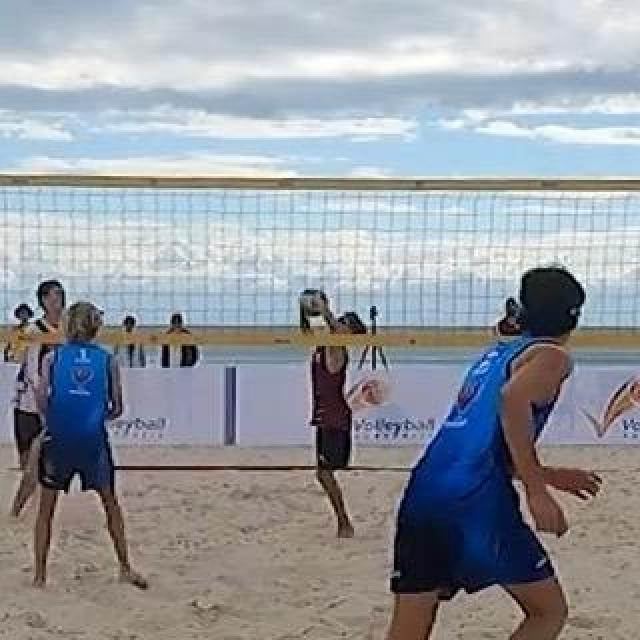volleyball: (298, 288, 330, 318)
